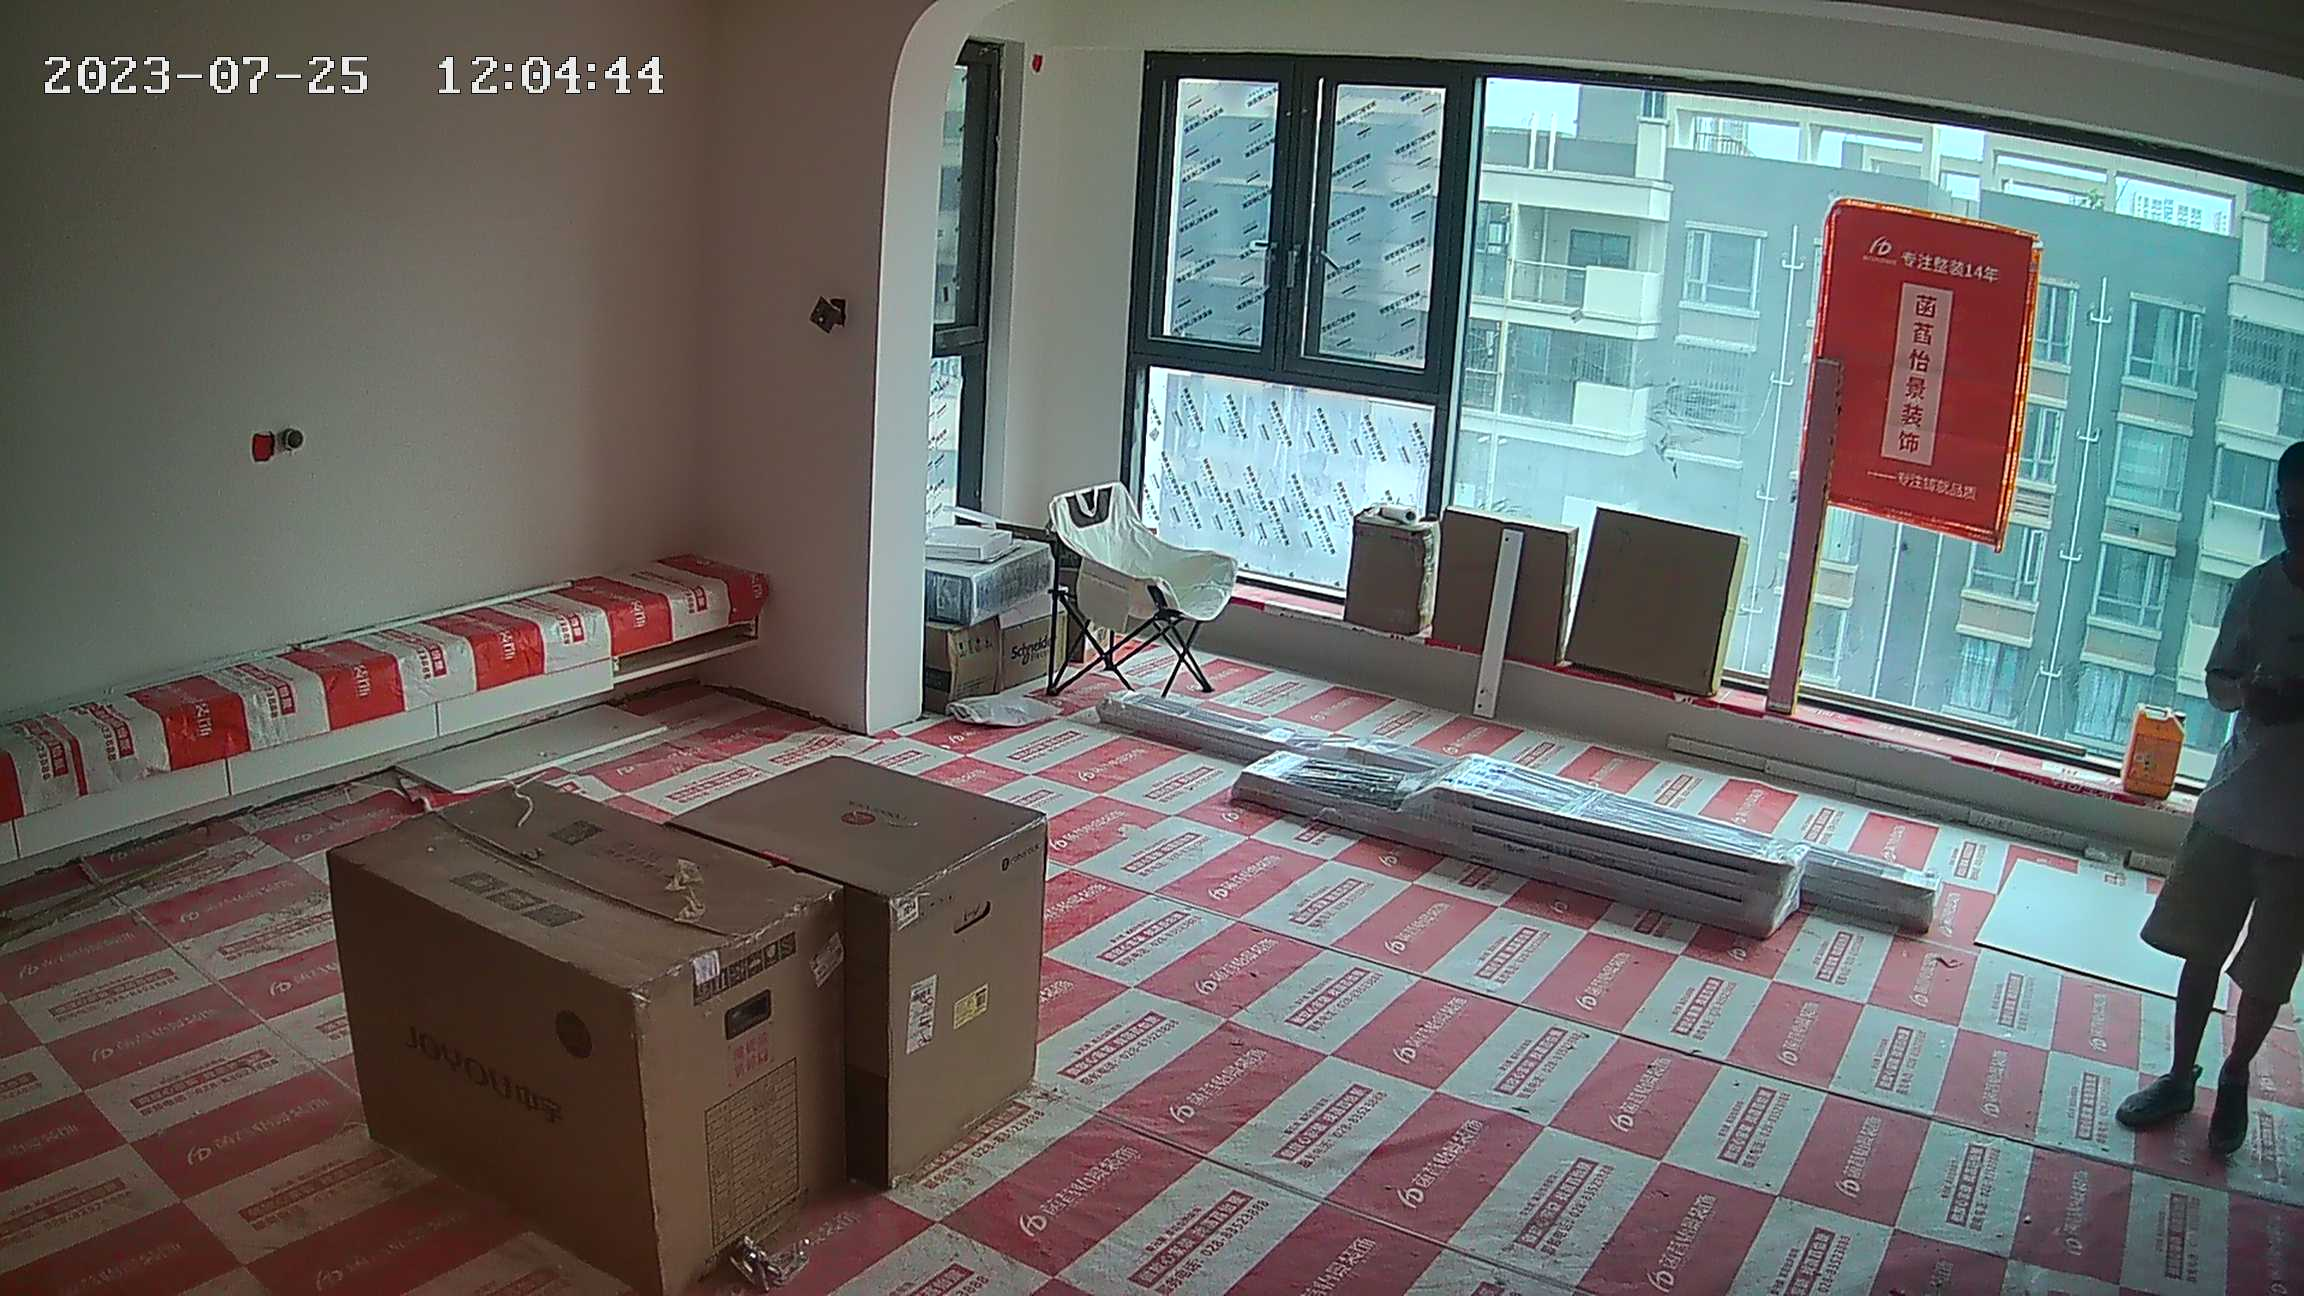people: (2123, 438, 2304, 1157)
window: (1149, 57, 2304, 809)
